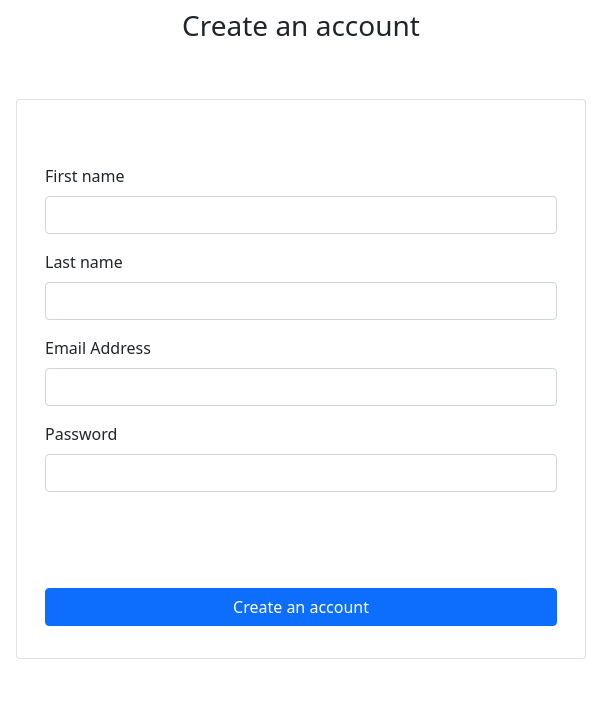
Test: RegistrationForm › should throw error if name is too long
Type "test@test.com" into the field with test id "email". click: (301, 387)
box: [45,368,557,406]
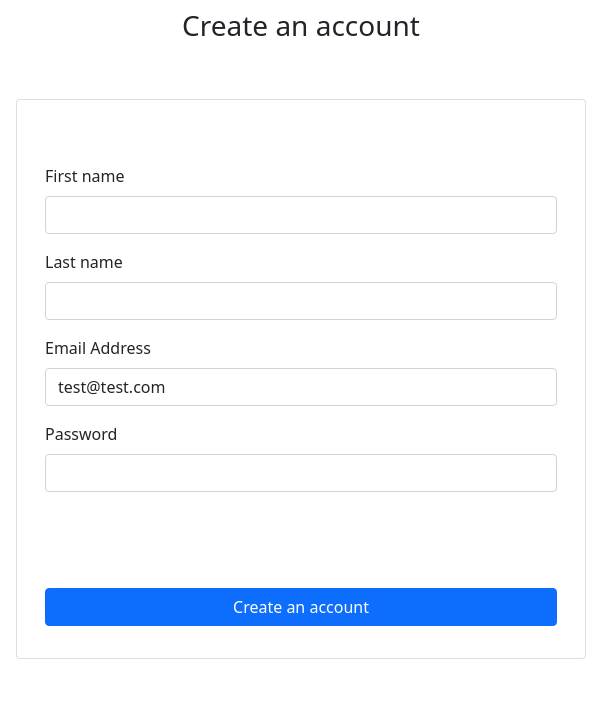
Type "secret" into the password field with test id "password". click: (301, 473)
box: [45,454,557,492]
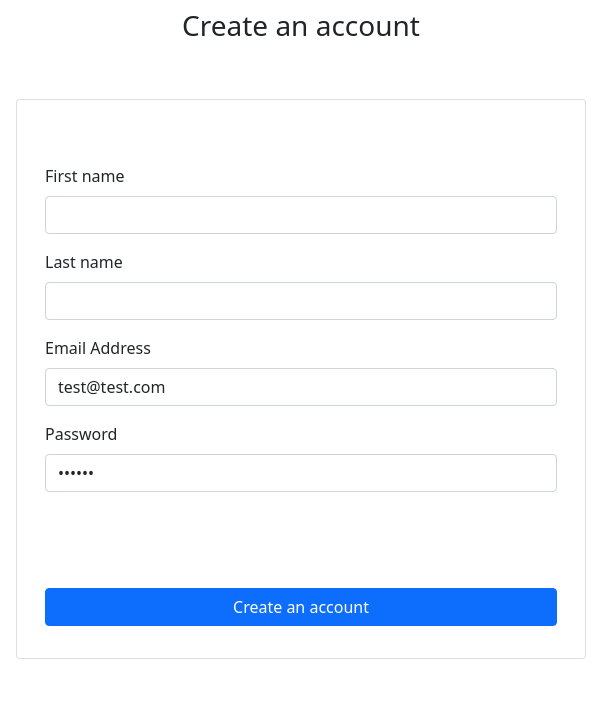
Type "testtesttesttesttesttesttesttesttesttesttesttesttesttesttesttesttesttesttesttesttesttesttesttesttesttesttesttesttesttesttesttesttest" into the field with test id "fName". click: (301, 215)
box: [45,196,557,234]
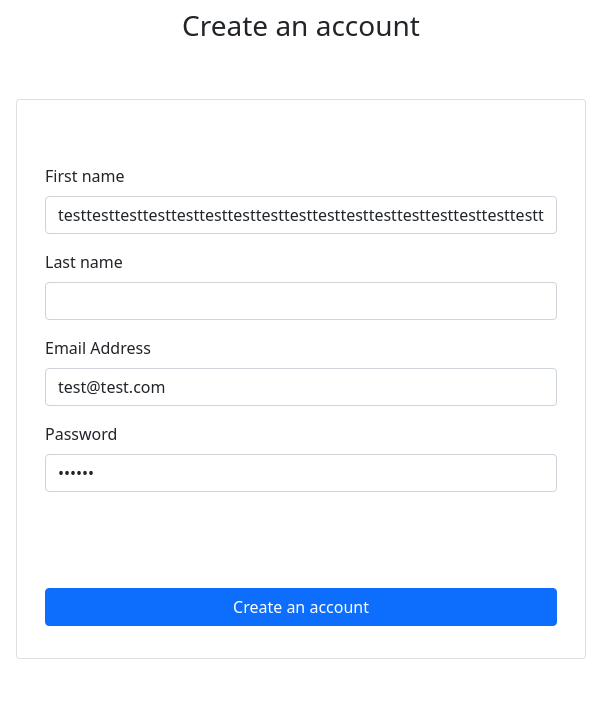
Type "testLast" into the field with test id "lName". click: (301, 301)
box: [45,282,557,320]
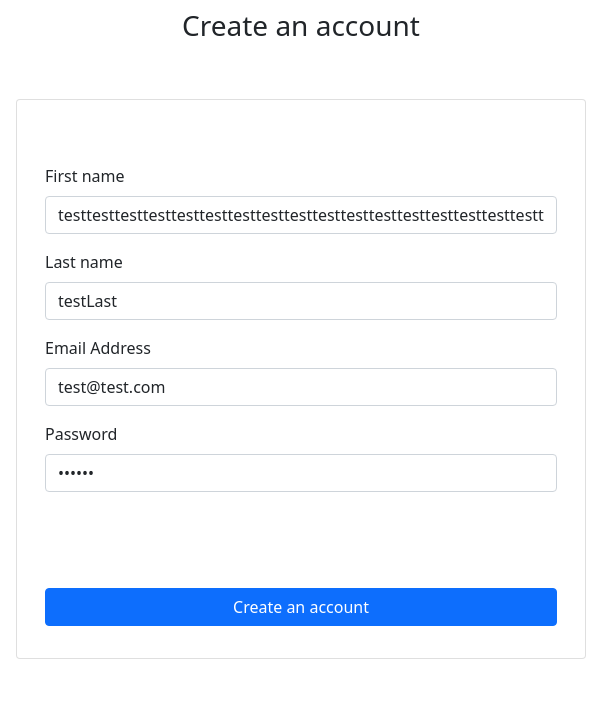
Click the button with test id "button". click: (301, 607)
box: [45,588,557,626]
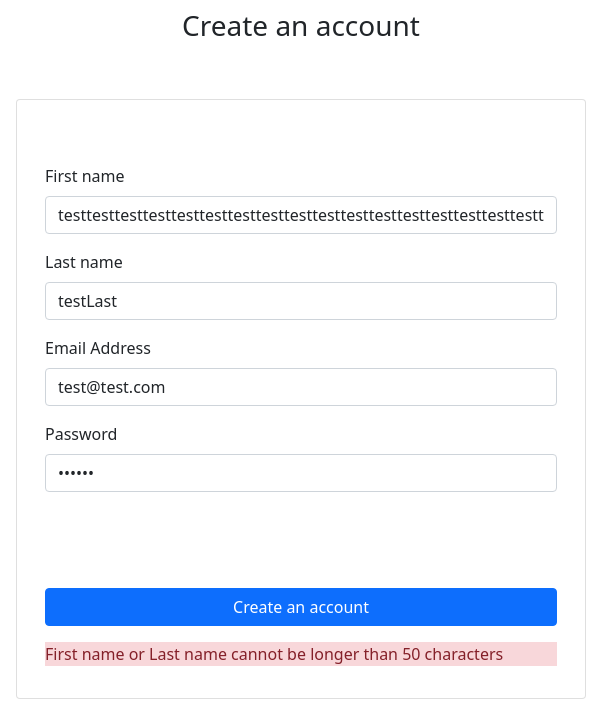
Now the text with test id "error" reads "First name or Last name cannot be longer than 50 characters", box [45,643,503,665]
